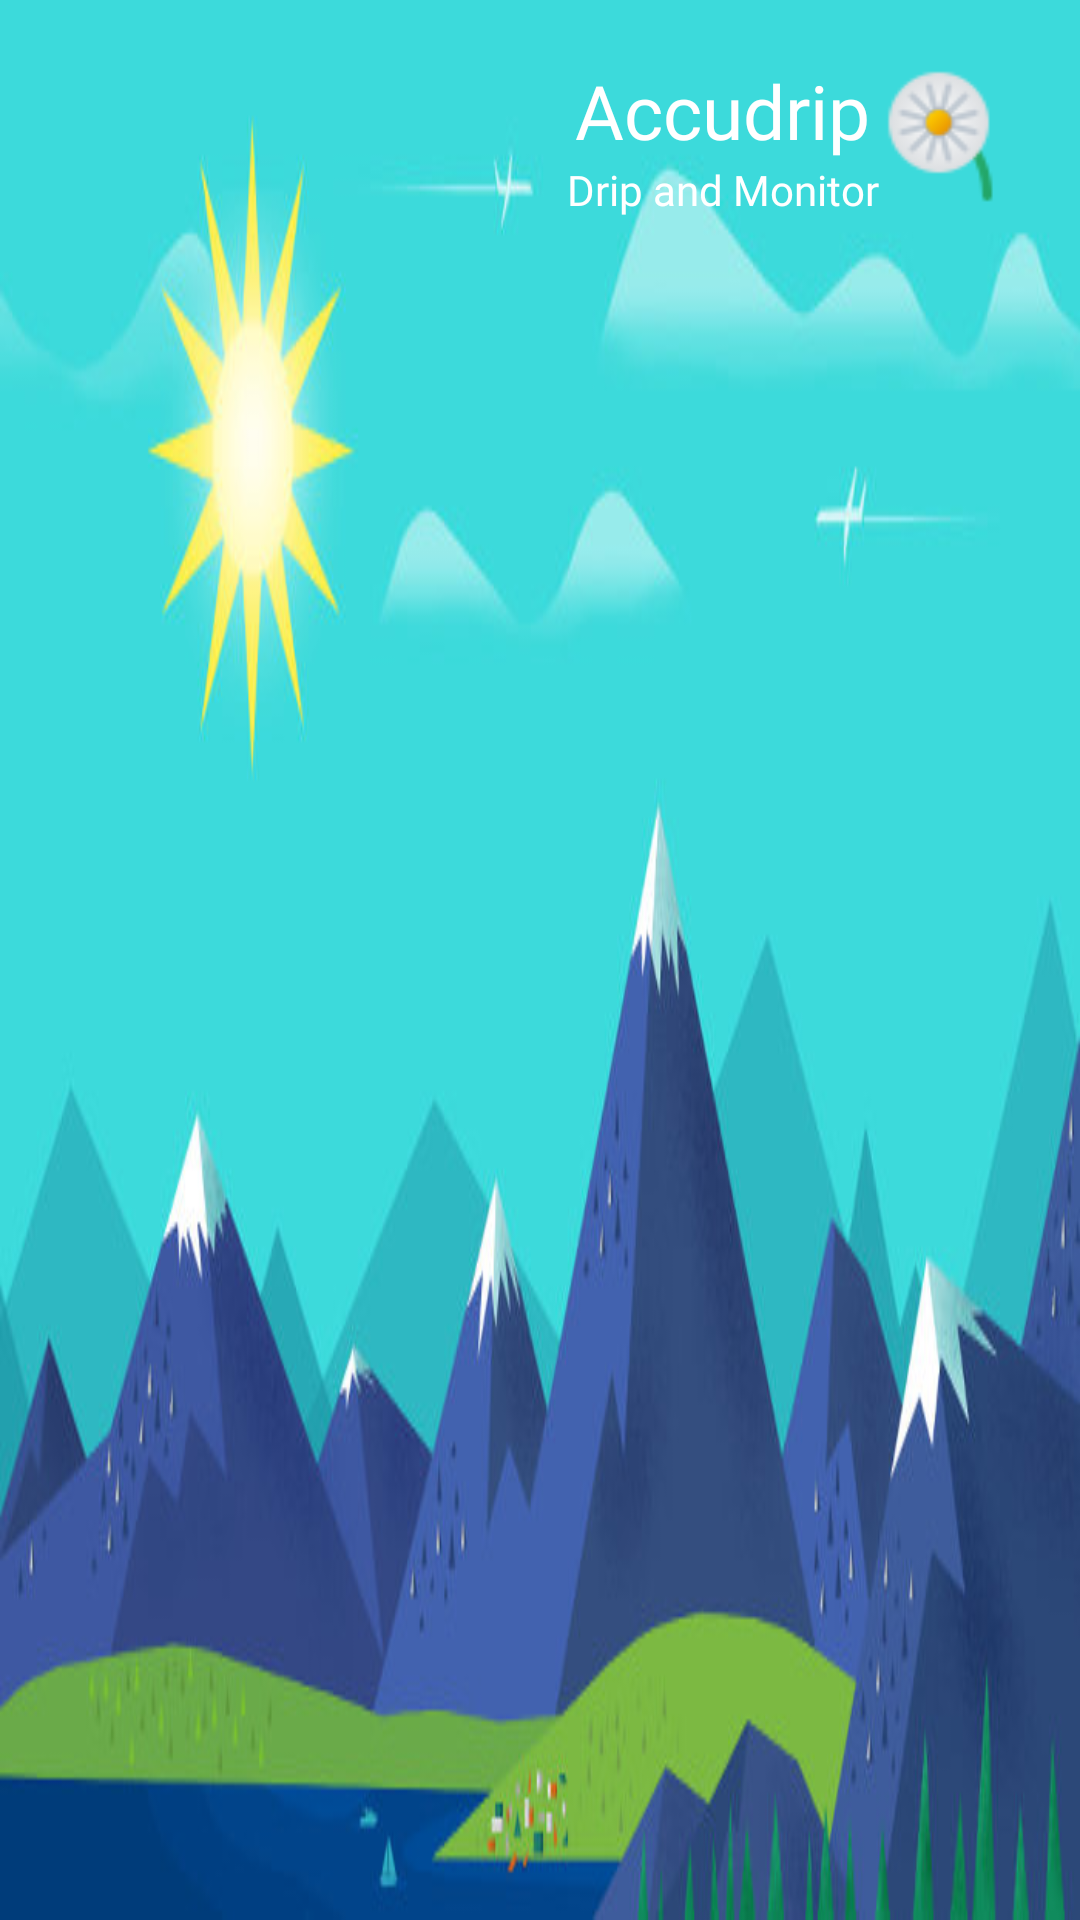

Named icons in this screenshot (1080w x 1920h) and their bounding boxes, (x1, y1, x2, y2):
dandelion: (870, 71, 993, 206)
